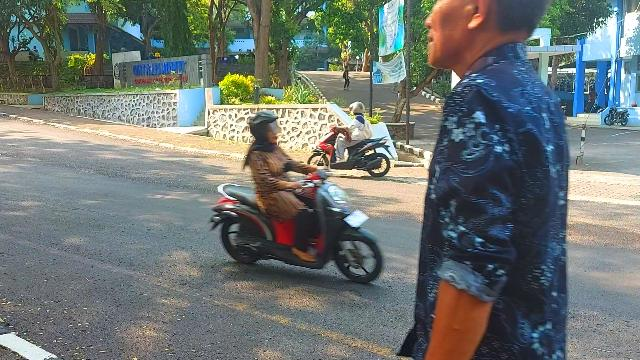helm: (251, 114, 280, 145), (351, 103, 366, 116)
motor: (209, 171, 384, 285), (310, 126, 397, 178)
